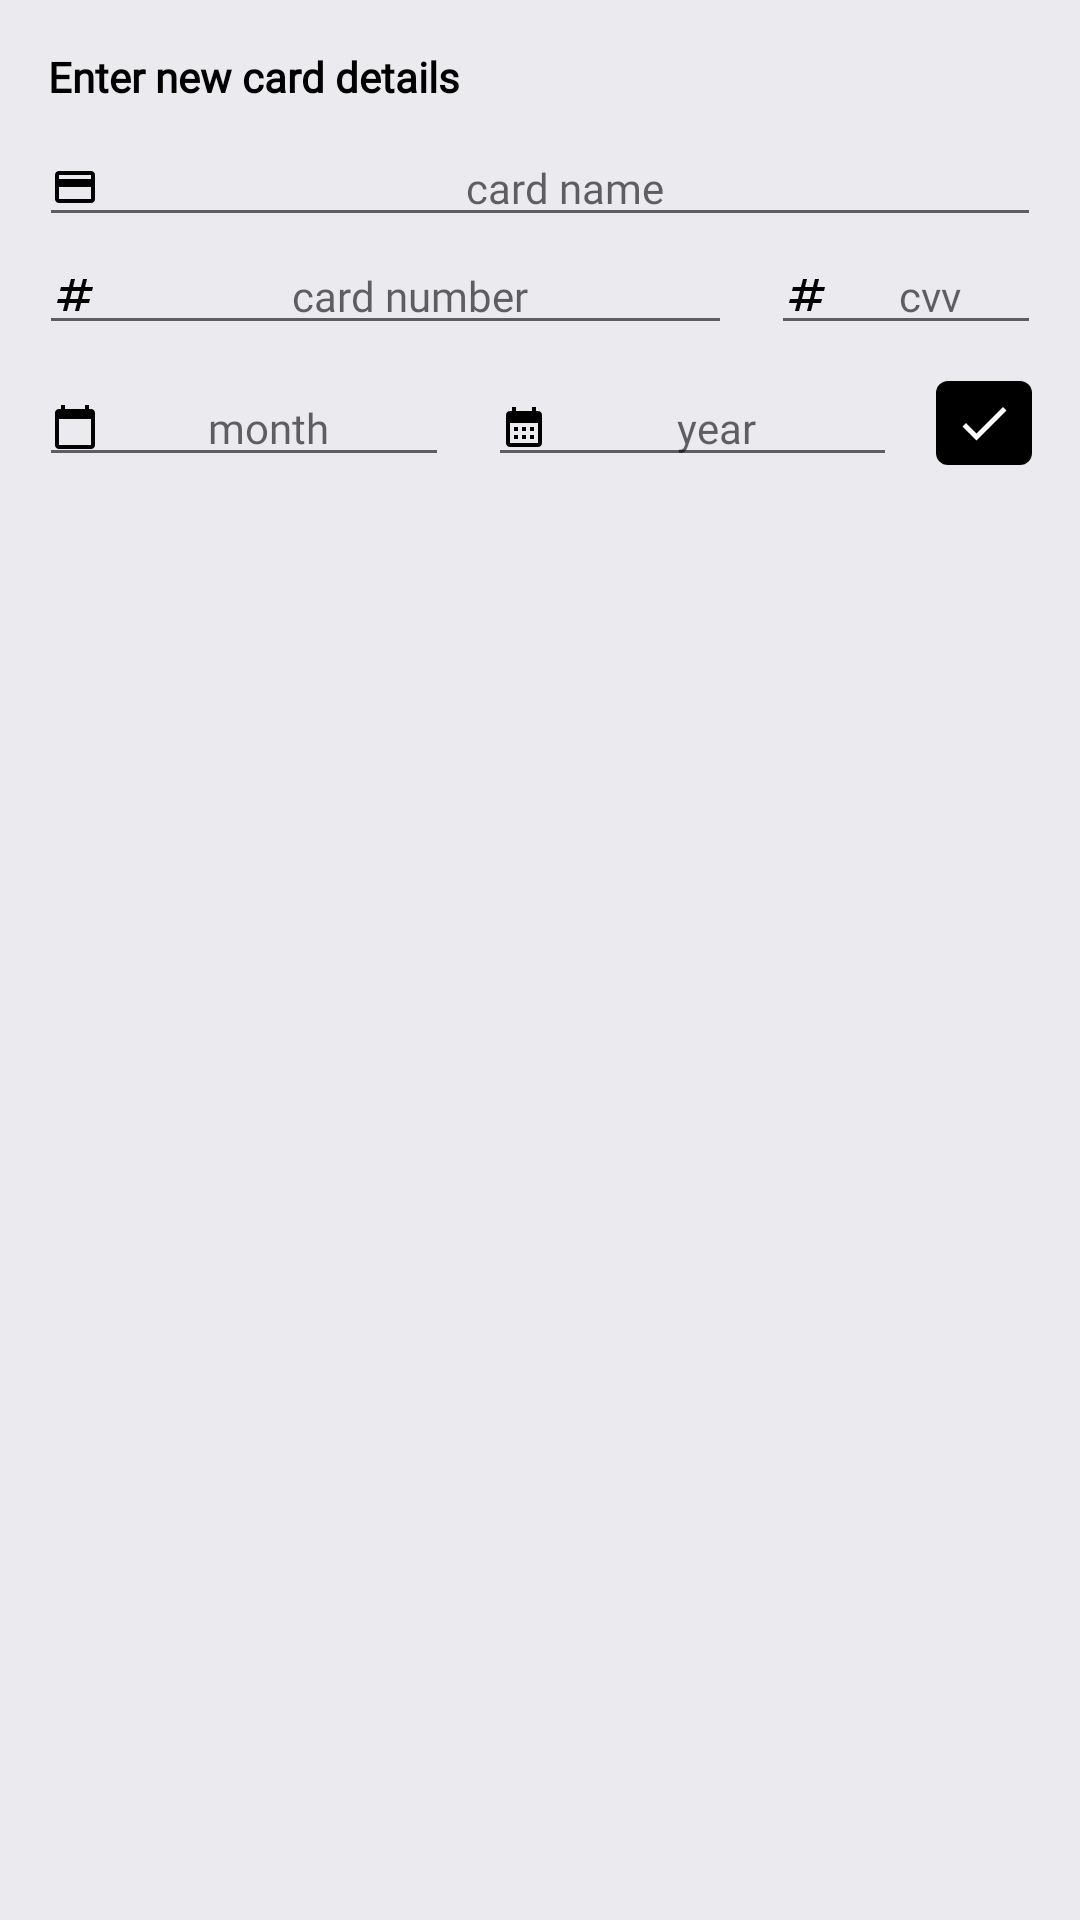

Named icons in this screenshot (1080w x 1920h) and their bounding boxes, (x1, y1, x2, y2):
done: (936, 381, 1032, 465)
